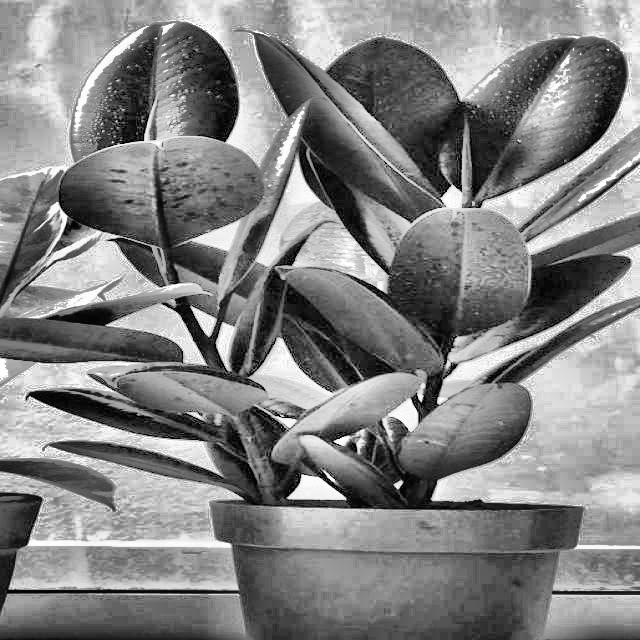plants: (98, 50, 598, 613)
